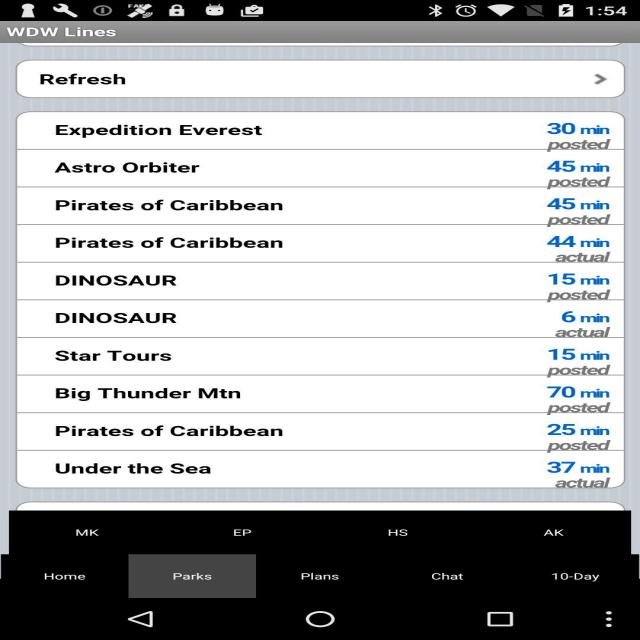text: (26, 110, 640, 511)
